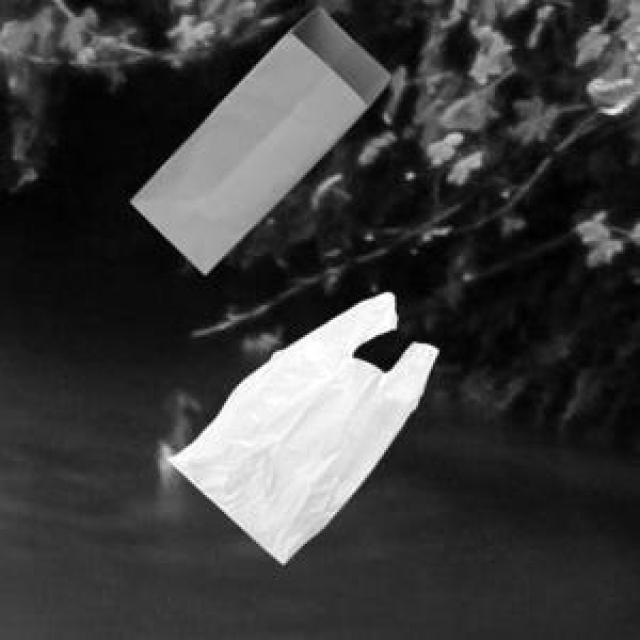paper: (126, 2, 386, 271)
